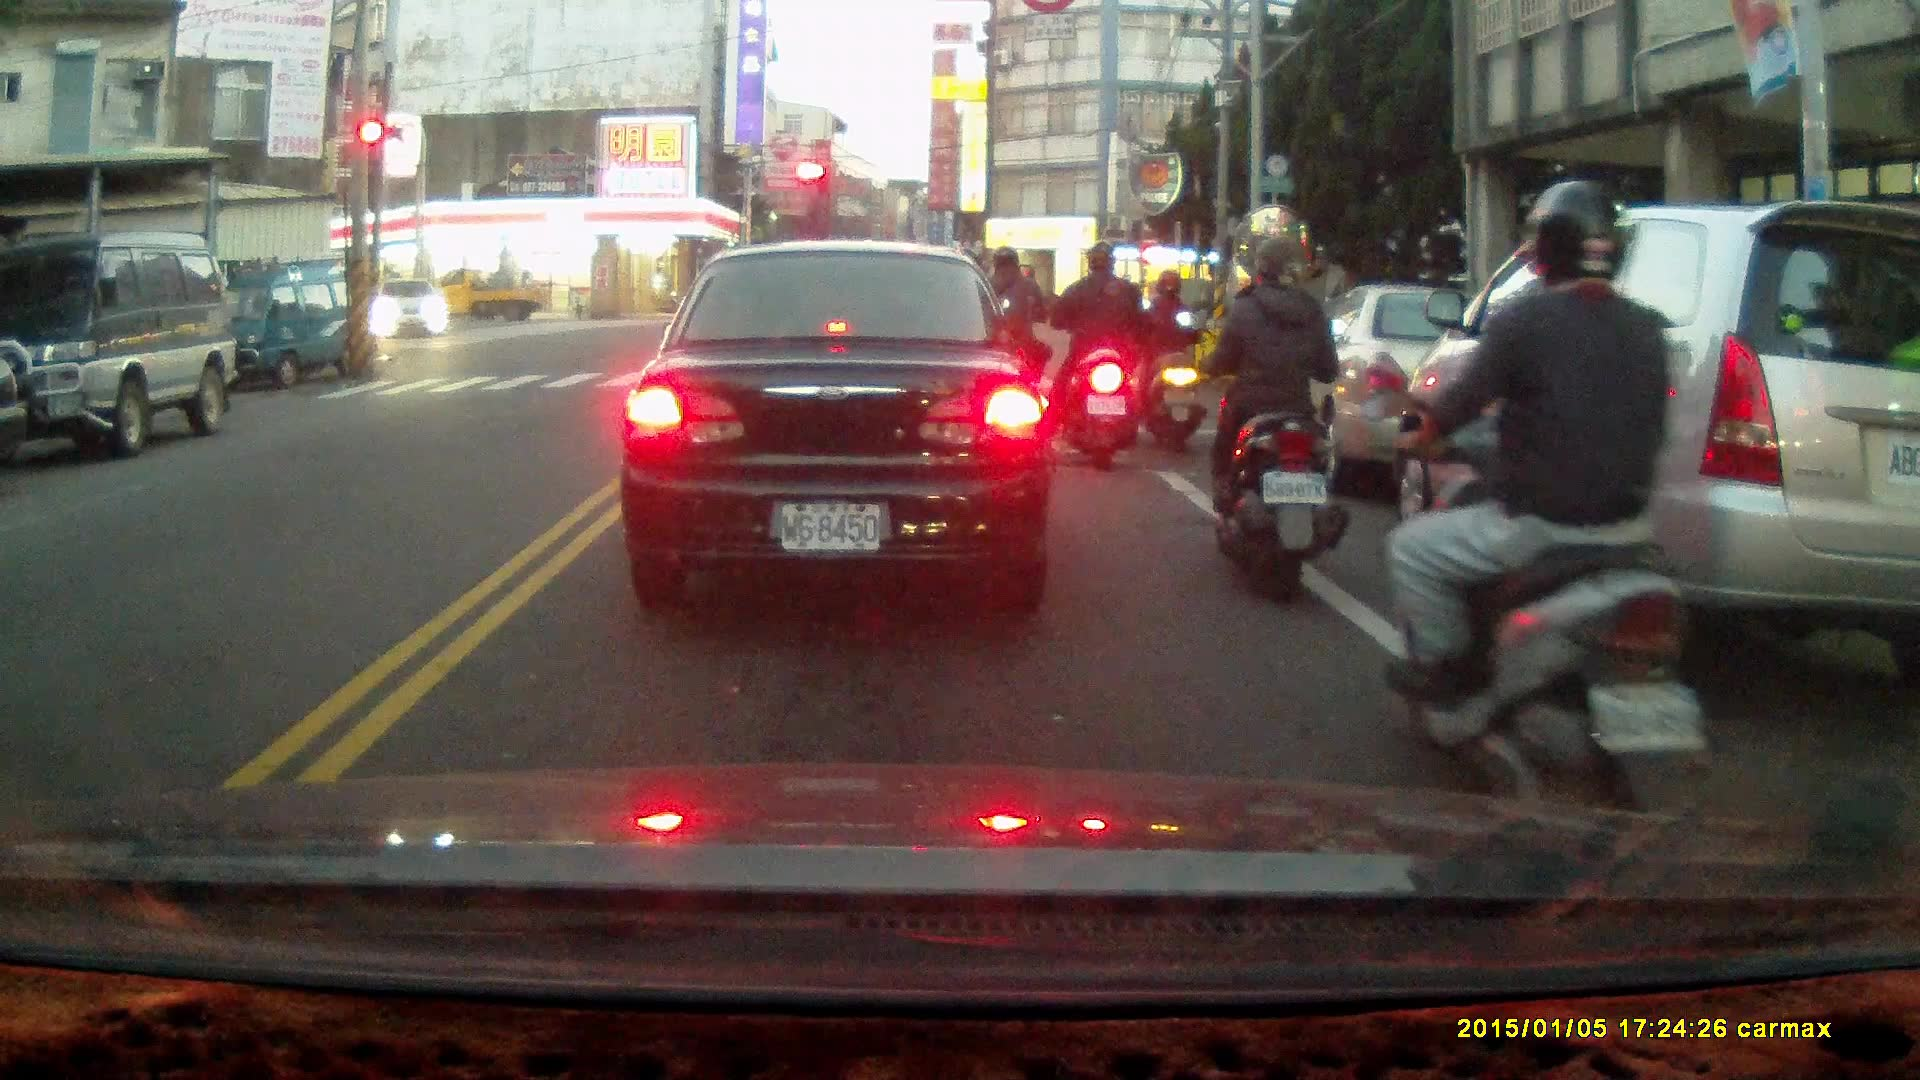rider: (1363, 178, 1722, 867), (1174, 231, 1343, 604), (1048, 243, 1141, 469), (963, 244, 1050, 447), (1134, 269, 1204, 450)
vehicle: (1382, 195, 1920, 685), (617, 243, 1061, 606), (1264, 282, 1595, 492), (1, 234, 239, 458), (194, 255, 381, 395), (423, 265, 546, 327), (372, 277, 451, 343)
